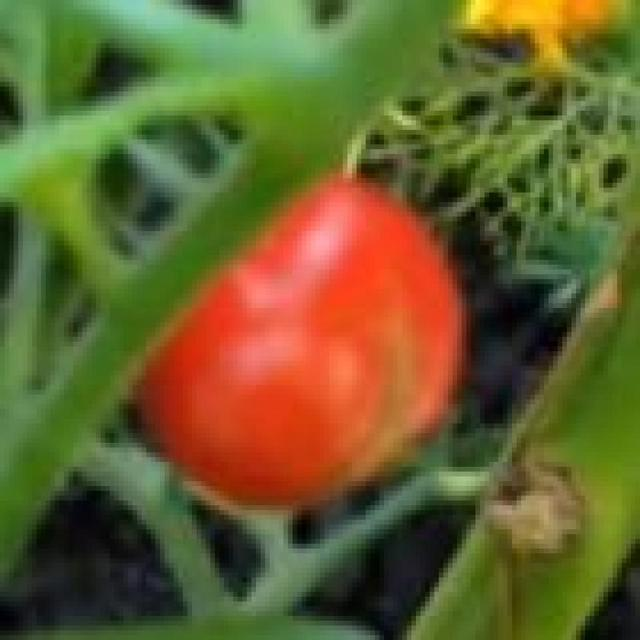Cracking Fruit: (196, 161, 294, 326)
